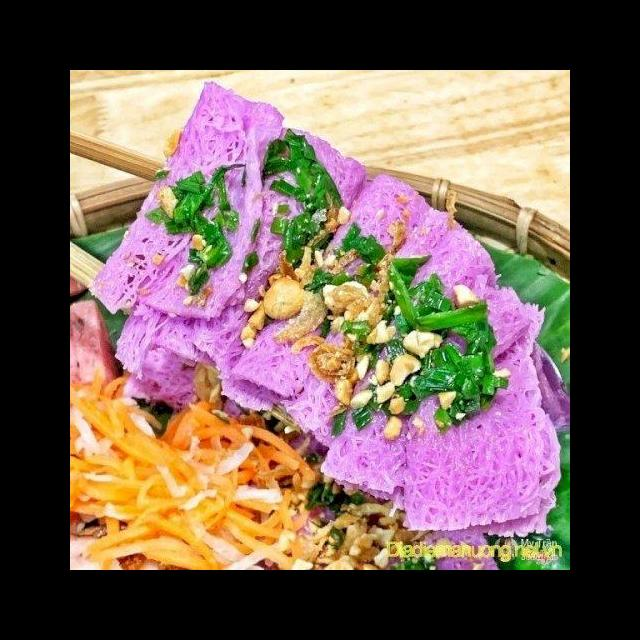banh hoi: (275, 199, 503, 452), (150, 123, 371, 369), (224, 166, 447, 406), (314, 280, 545, 507), (82, 77, 290, 321), (391, 296, 565, 535)
dua chua: (71, 371, 323, 570)
